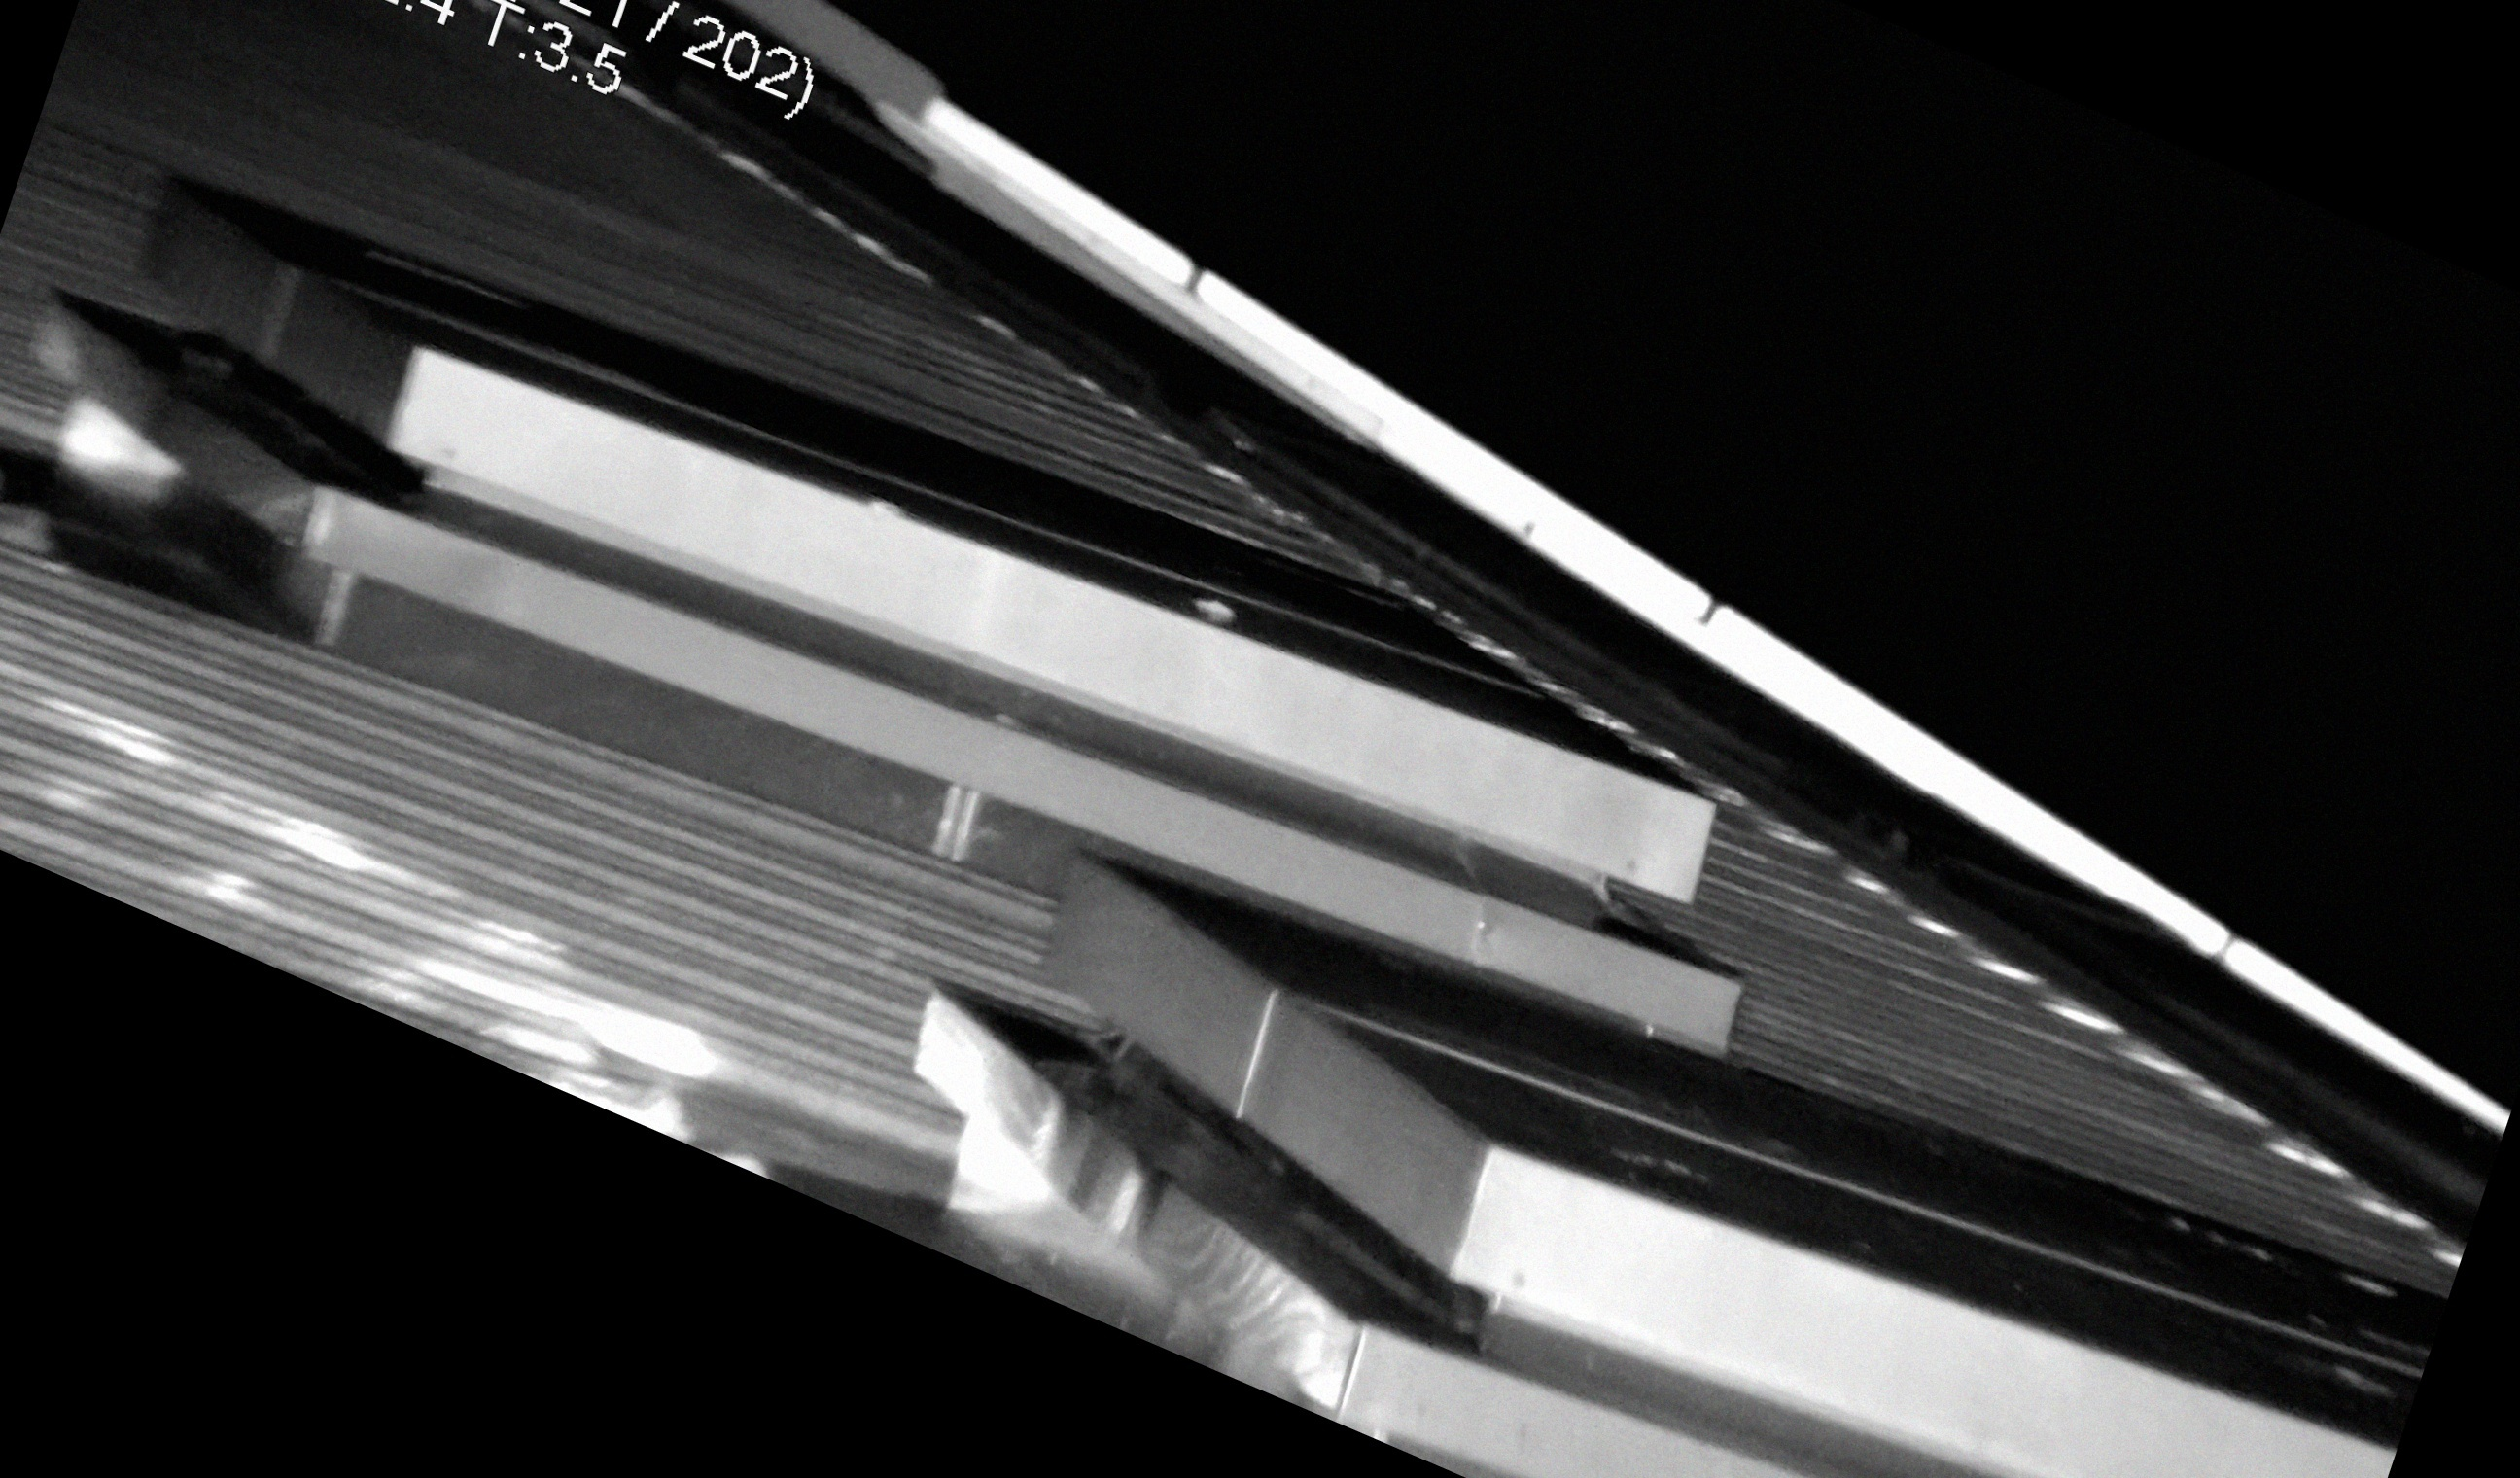Other: (0, 215, 471, 658)
